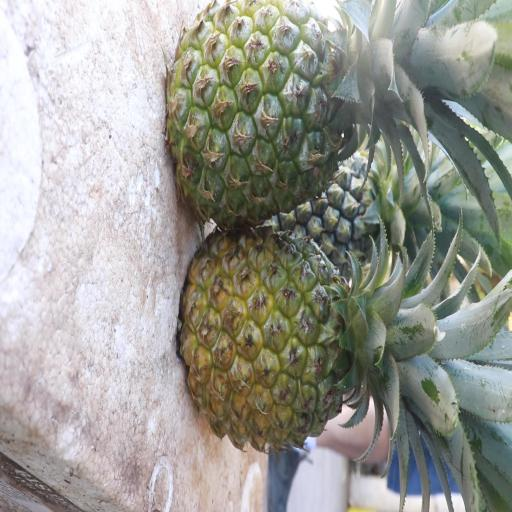------------------------------: (170, 0, 386, 216)
Pineapple - v8 v1: (185, 233, 406, 462)
